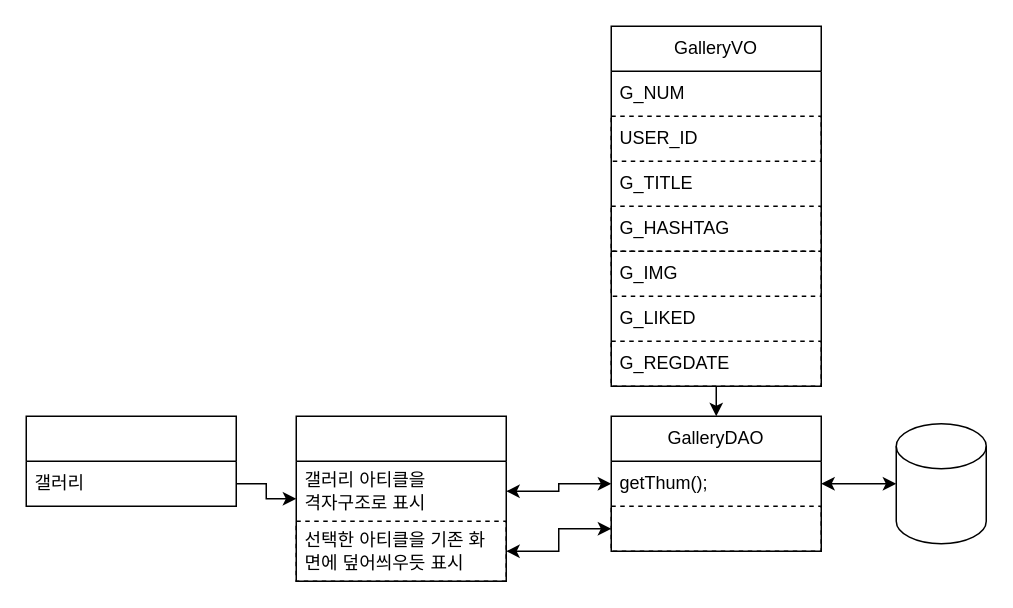
The diagram is 1013 pixels wide and 608 high, and some of its shapes have lost their labels. Each missing label, with the box of its shape:
Gallery DB: (895, 422, 986, 544)
GalleryList.jsp: (295, 415, 506, 581)
getDetails();: (610, 505, 821, 551)
Home.jsp: (25, 415, 236, 506)
